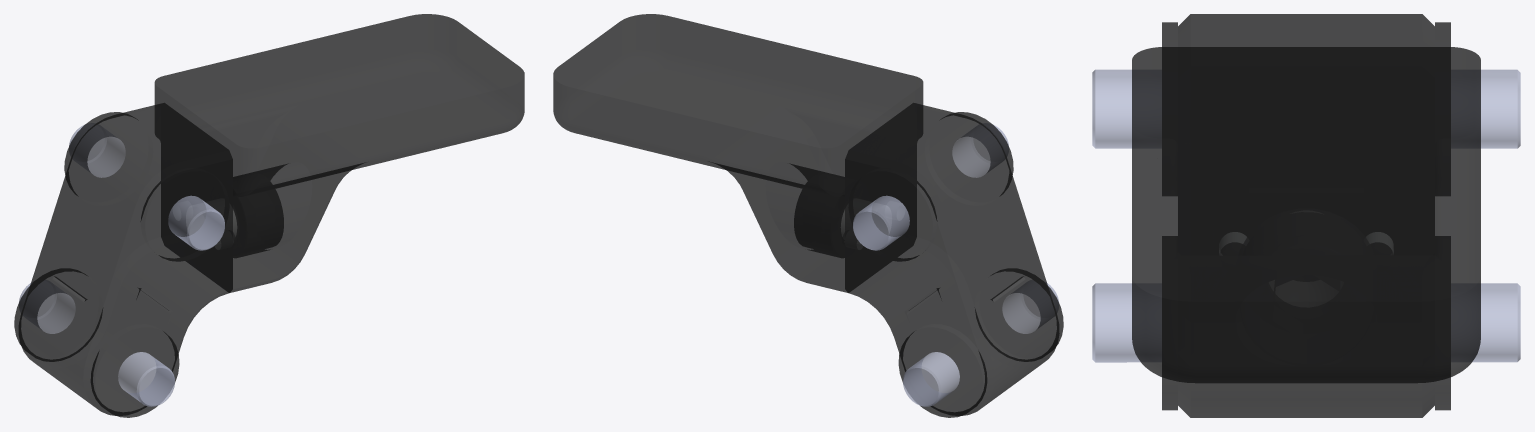
The model's file is robotiq_85_tip_right.obj.
The picture shows the model from 3 angles, left to right: view 1: azimuth 30°, elevation 25°; view 2: azimuth 150°, elevation 25°; view 3: azimuth 270°, elevation 25°; orthographic projection. The views are drawn at different scales.
Parts seen in each view (by area): view 1: mesh29, mesh93, mesh26, mesh55, mesh63, mesh22, mesh19, mesh32, mesh16, mesh58, mesh30, mesh2 (+38 smaller); view 2: mesh29, mesh93, mesh26, mesh63, mesh55, mesh32, mesh22, mesh19, mesh7, mesh58, mesh21, mesh2 (+38 smaller); view 3: mesh29, mesh19, mesh26, mesh75, mesh28, mesh58, mesh21, mesh30, mesh43, mesh42, mesh69, mesh72 (+20 smaller).
Part boxes in pixels (x1,y1,x2,y2): mesh29: (154,14,524,148); mesh93: (21,157,135,360); mesh26: (199,73,506,195); mesh55: (29,107,160,305); mesh63: (100,159,232,350); mesh22: (261,87,506,182); mesh19: (157,86,236,292); mesh32: (164,16,408,108); mesh16: (233,170,349,289); mesh58: (18,313,156,415); mesh30: (174,52,417,126); mesh2: (233,162,311,257); mesh29: (553,14,923,148); mesh93: (942,157,1056,360); mesh26: (571,73,878,195); mesh63: (917,107,1048,305); mesh55: (845,159,977,350); mesh32: (571,87,816,182); mesh22: (669,16,914,108); mesh19: (841,86,920,292); mesh7: (728,170,844,289); mesh58: (922,313,1059,415); mesh21: (660,52,903,126); mesh2: (766,162,844,257); mesh29: (1132,47,1480,301); mesh19: (1164,47,1448,255); mesh26: (1164,139,1448,379); mesh75: (1178,67,1434,255); mesh28: (1195,301,1417,364); mesh58: (1190,383,1422,417); mesh21: (1132,127,1163,366); mesh30: (1449,127,1480,366); mesh43: (1190,14,1422,41); mesh42: (1190,23,1422,46); mesh69: (1095,283,1161,362); mesh72: (1451,283,1517,362).
Size of the model in its own units: 0.057 by 0.0313 by 0.027.
